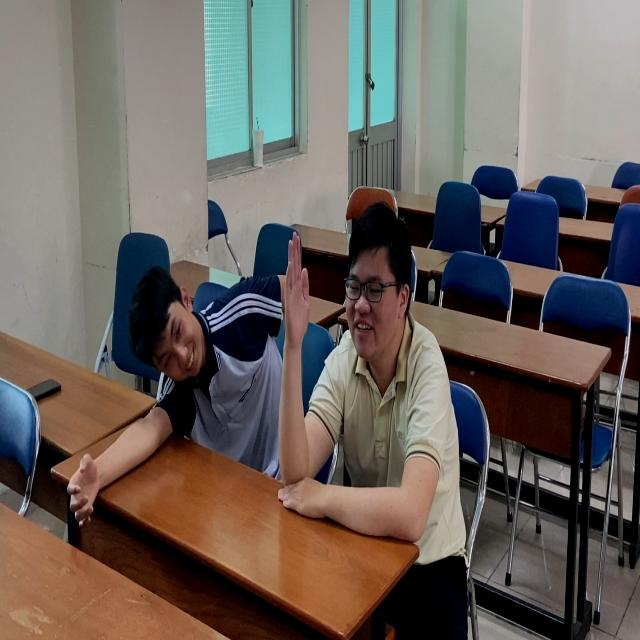raise_hand: (278, 209, 448, 555)
